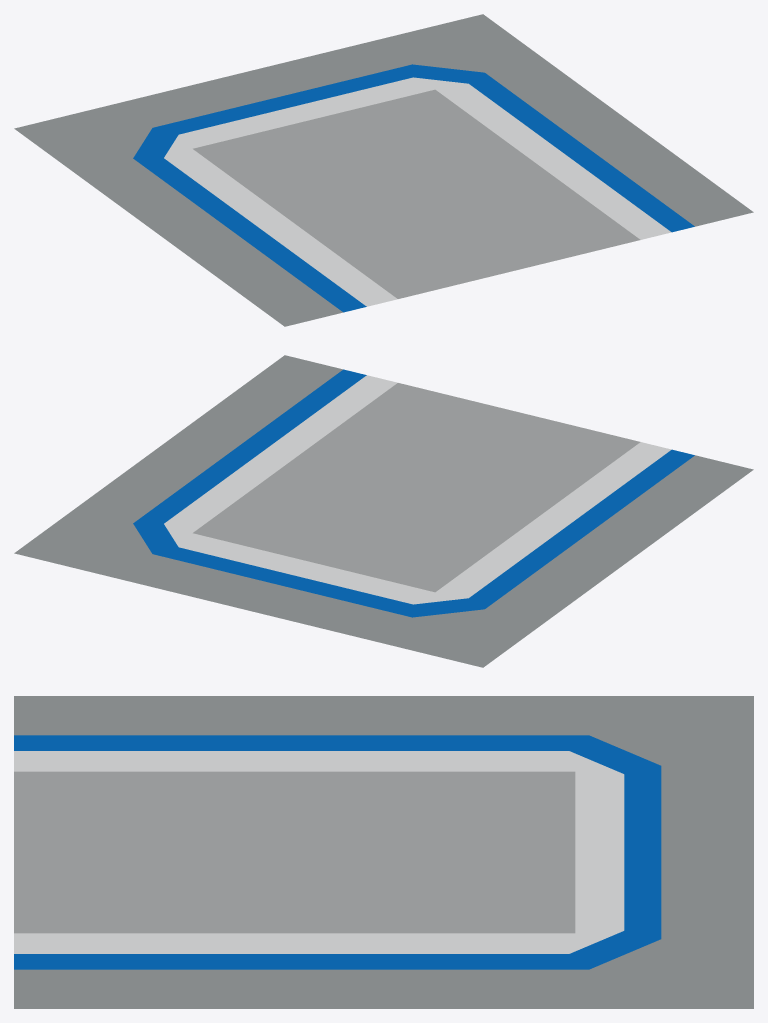
Rendered from Ceiling_type_A_031.fbx.
3 views of the same model, one above another, from view 1: azimuth 30°, elevation 25°; view 2: azimuth 150°, elevation 25°; view 3: azimuth 270°, elevation 25° (orthographic). The views are drawn at different scales.
Visible parts, largest first — view 1: Ceiling_type_A_031; view 2: Ceiling_type_A_031; view 3: Ceiling_type_A_031.
Part boxes in pixels (left/top/right/bottom): Ceiling_type_A_031: left=14, top=14, right=753, bottom=326; Ceiling_type_A_031: left=14, top=355, right=753, bottom=667; Ceiling_type_A_031: left=14, top=696, right=753, bottom=1008.
Bounding box in the file's own units: 400 × 400 × 6.18.
